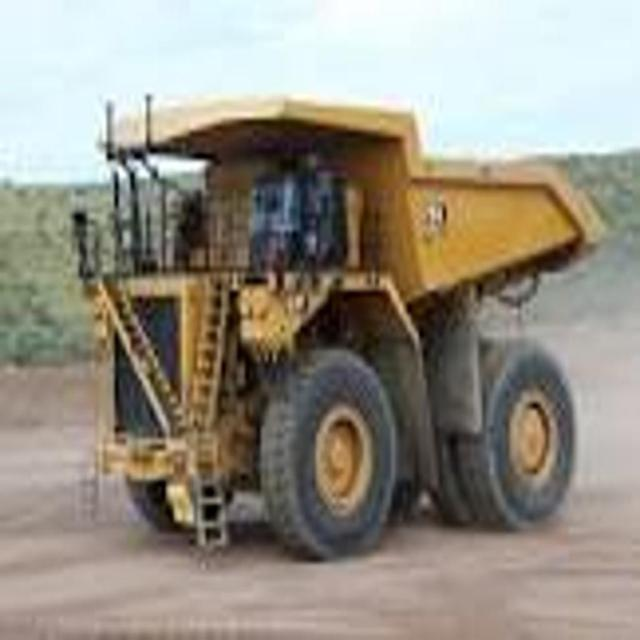dump_truck: (78, 56, 611, 549)
